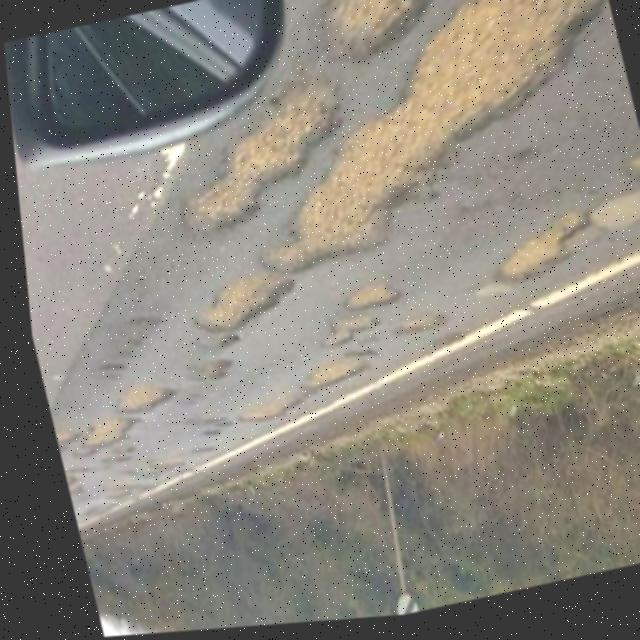Pothole: (467, 223, 601, 299), (249, 208, 382, 283), (167, 142, 262, 245), (307, 0, 432, 76), (170, 275, 287, 342), (99, 378, 166, 427), (330, 276, 389, 325), (623, 125, 640, 197)
